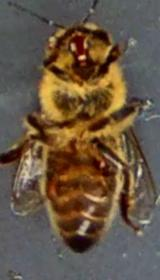varroa_mite: (38, 167, 62, 203), (92, 148, 114, 180)
